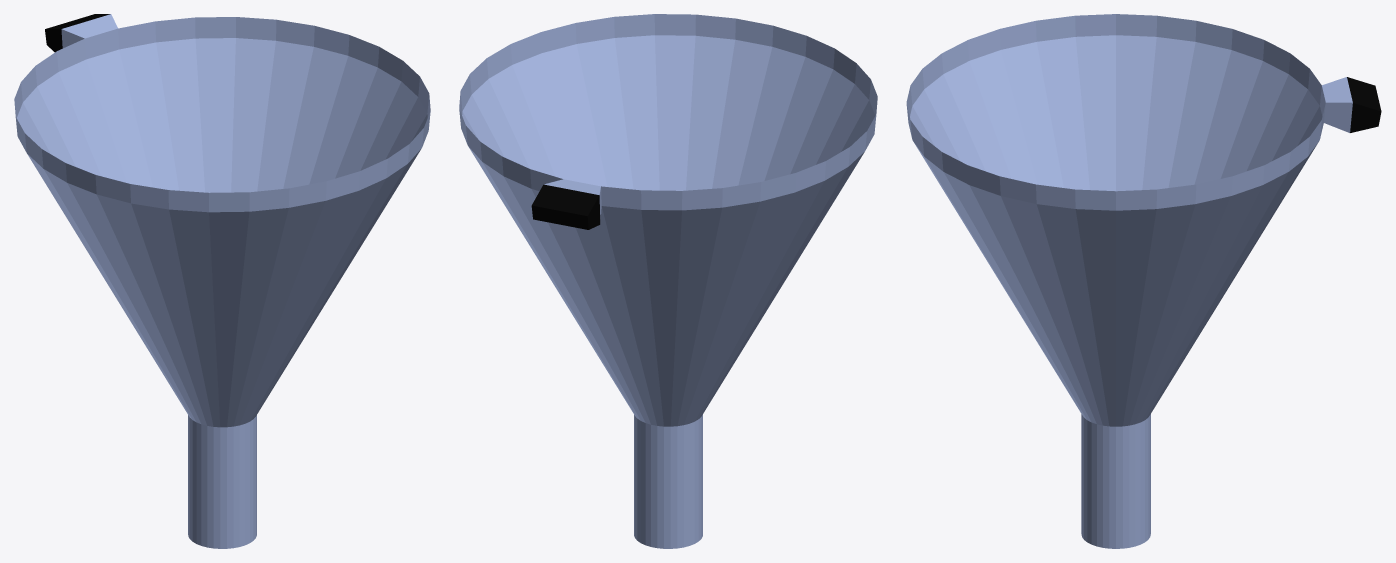
Rendered from Funnel.gltf.
3 views of the same model, side by side, from view 1: azimuth 30°, elevation 25°; view 2: azimuth 150°, elevation 25°; view 3: azimuth 270°, elevation 25° (orthographic).
Parts seen in each view (by area): view 1: Cylinder; view 2: Cylinder; view 3: Cylinder.
Part boxes in pixels (box(x1,y1,x2,y2)): Cylinder: box(14, 14, 430, 548); Cylinder: box(459, 14, 877, 548); Cylinder: box(906, 14, 1381, 548).
Bounding box in the file's own units: 2.48 × 2.83 × 2.81.
